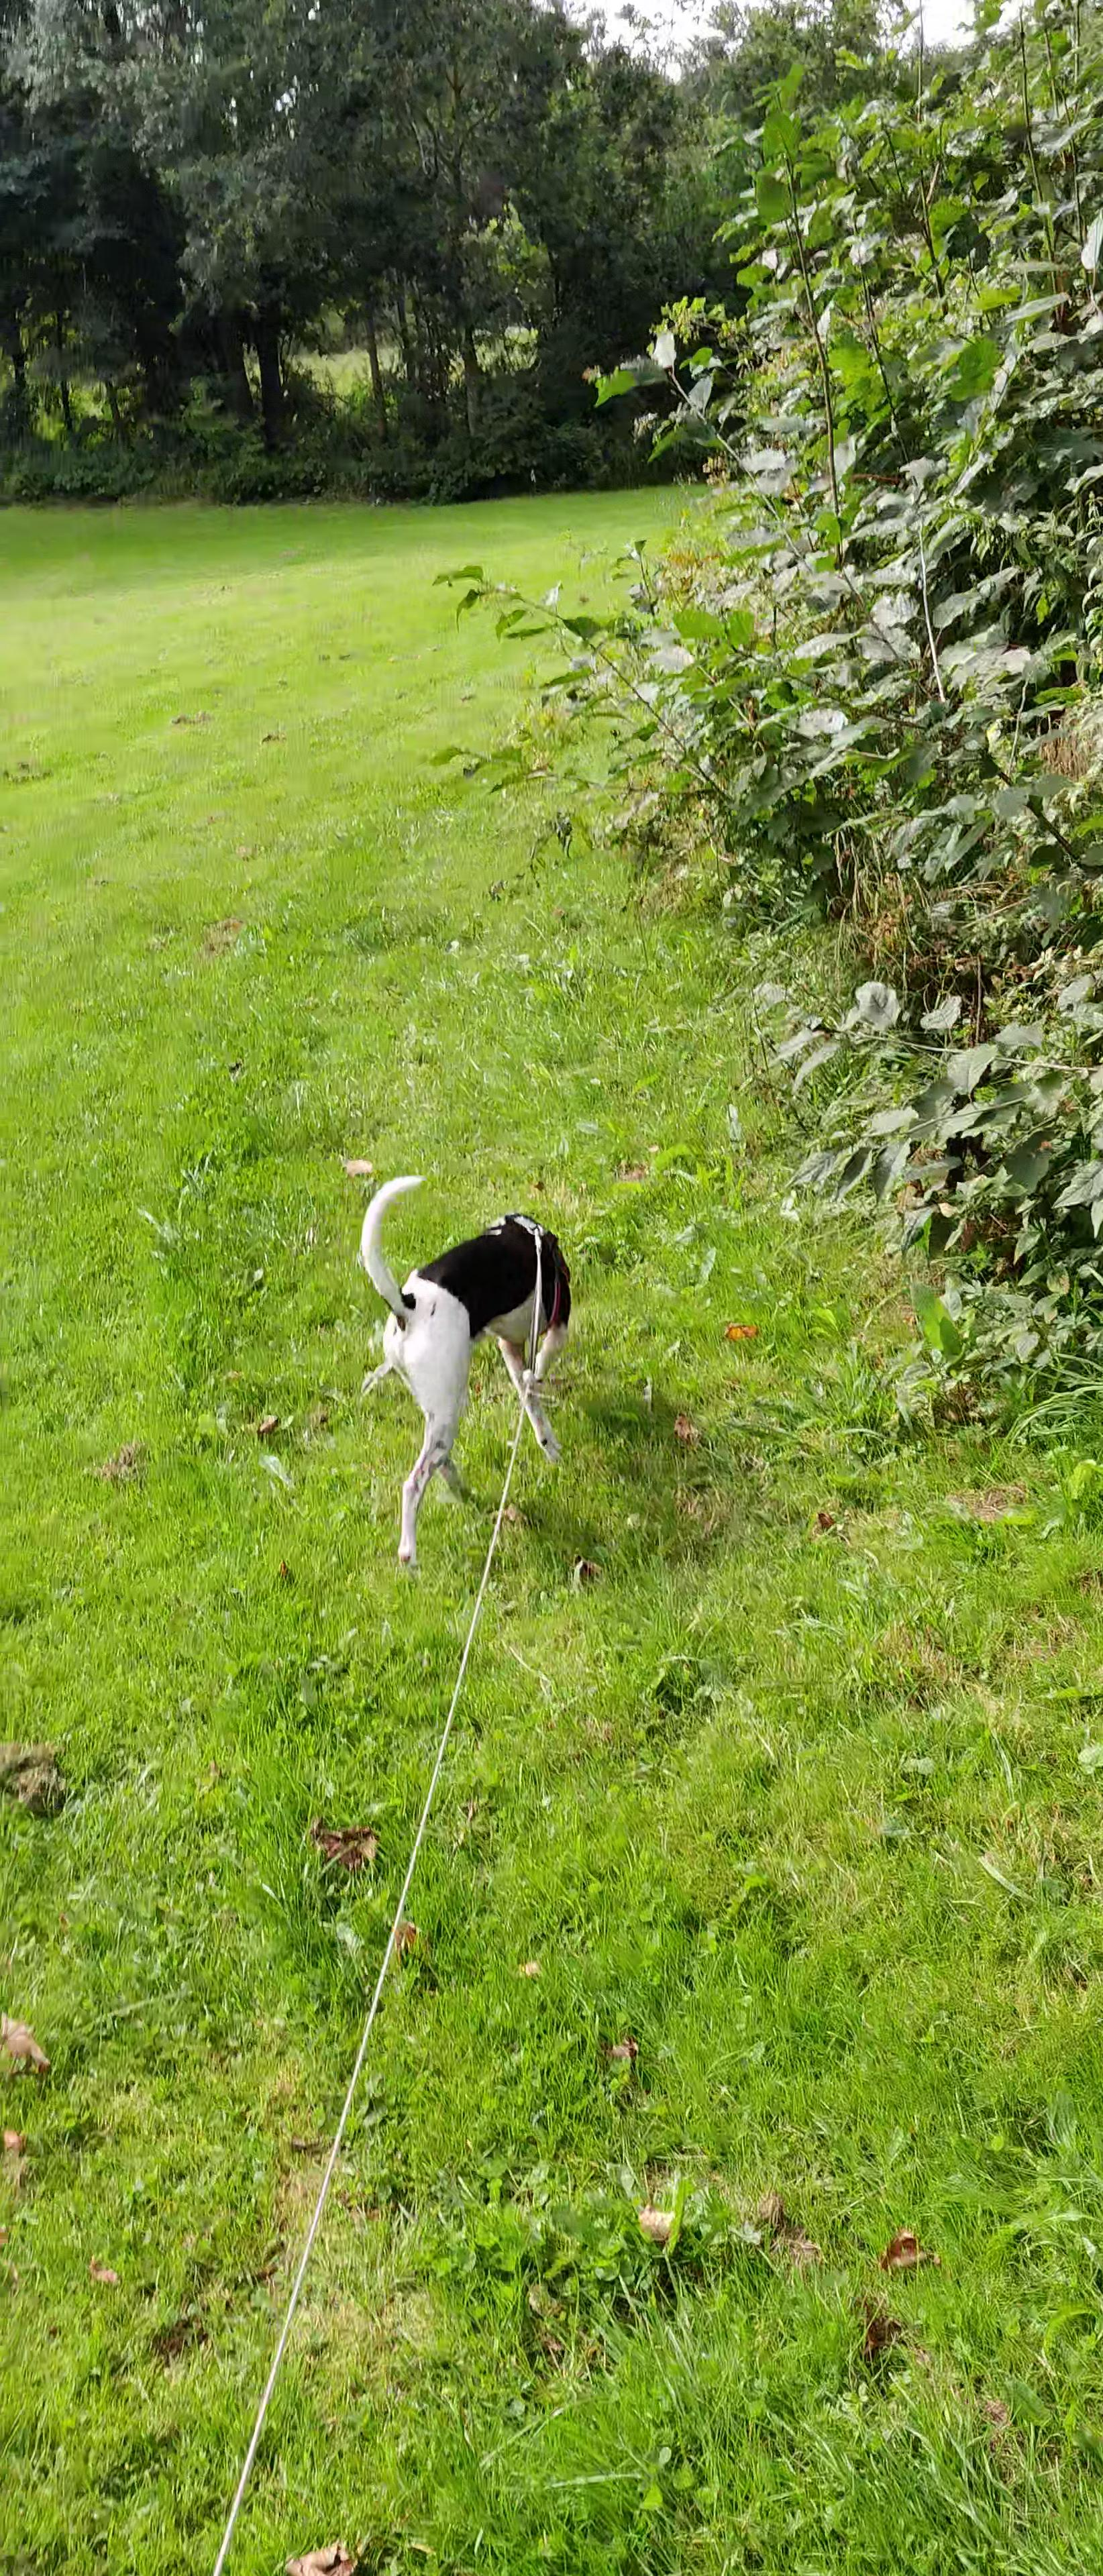Dog: (348, 1166, 572, 1569)
